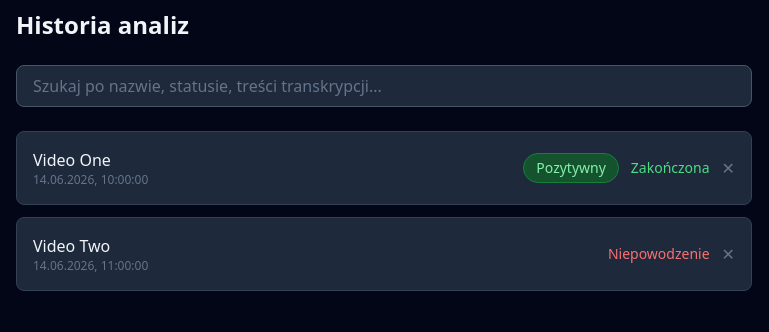
HistoryPage › keeps the analysis in history when deleting fails on the server
Expected: the text "Video One" is shown, [33,149,111,171]
Click the button named "Usuń z historii" at (728, 168), box [722,156,735,180]
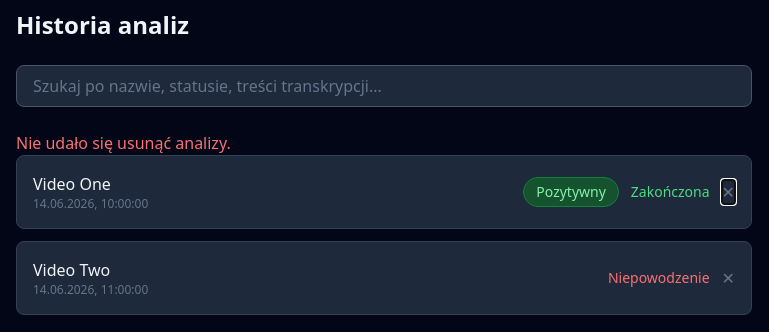
Expected: the text "Video One" is shown, [33,173,111,195]
Result: the text "Nie udało się usunąć analizy." is shown at [16,132,231,154]
